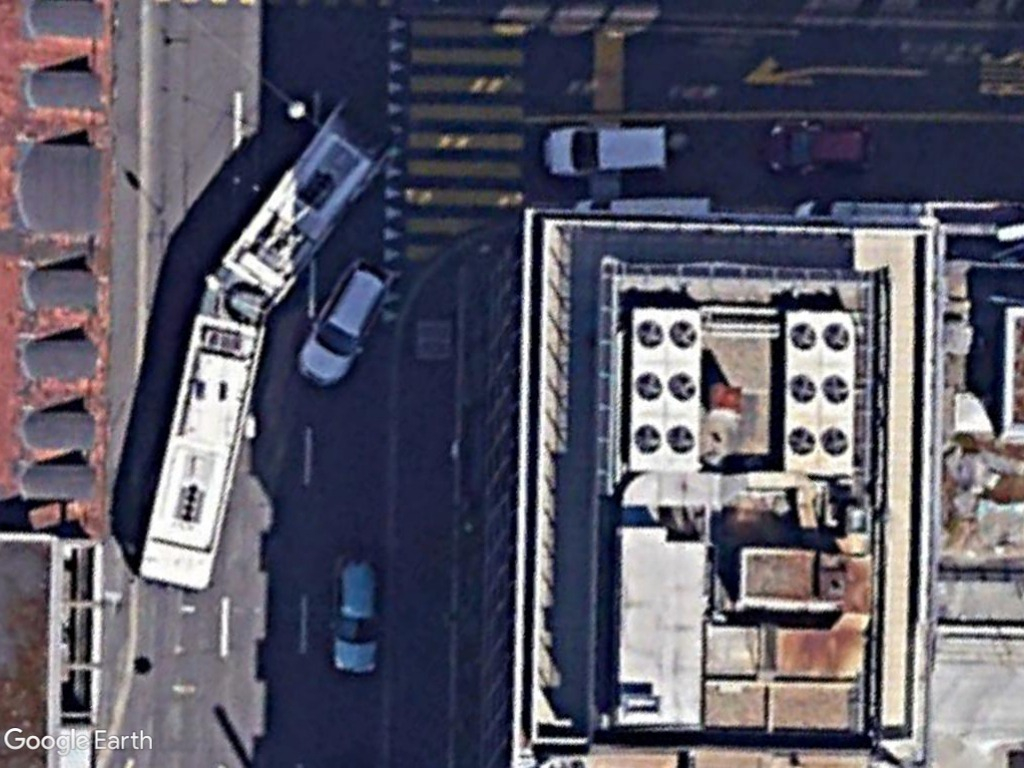bus: (129, 313, 268, 589)
car: (293, 254, 393, 392), (539, 119, 671, 181), (330, 549, 380, 679)
